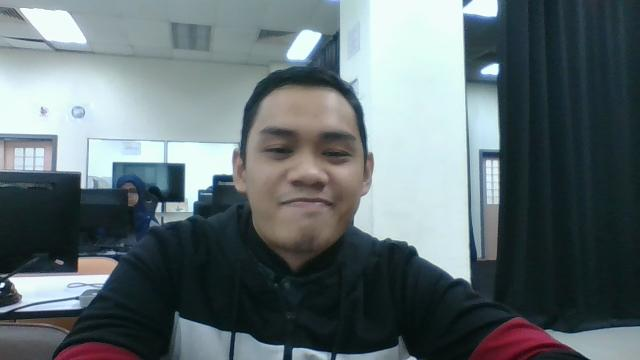senang: (221, 61, 388, 274)
